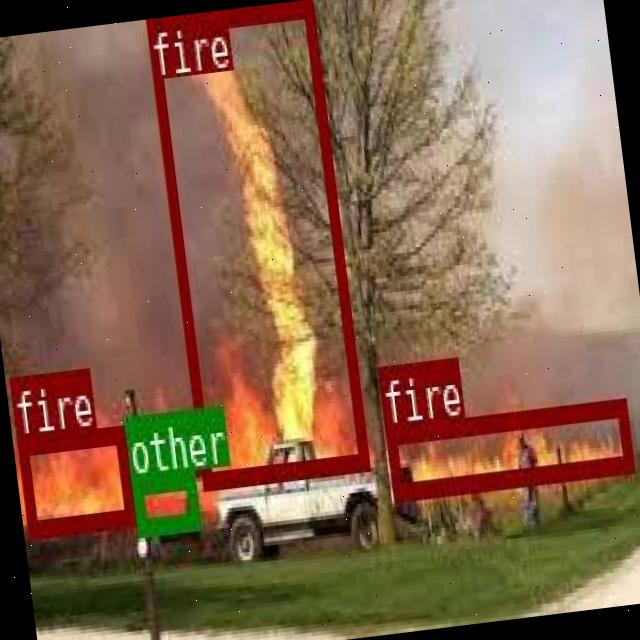fire: (144, 0, 367, 485), (382, 396, 632, 499), (16, 422, 132, 533)
